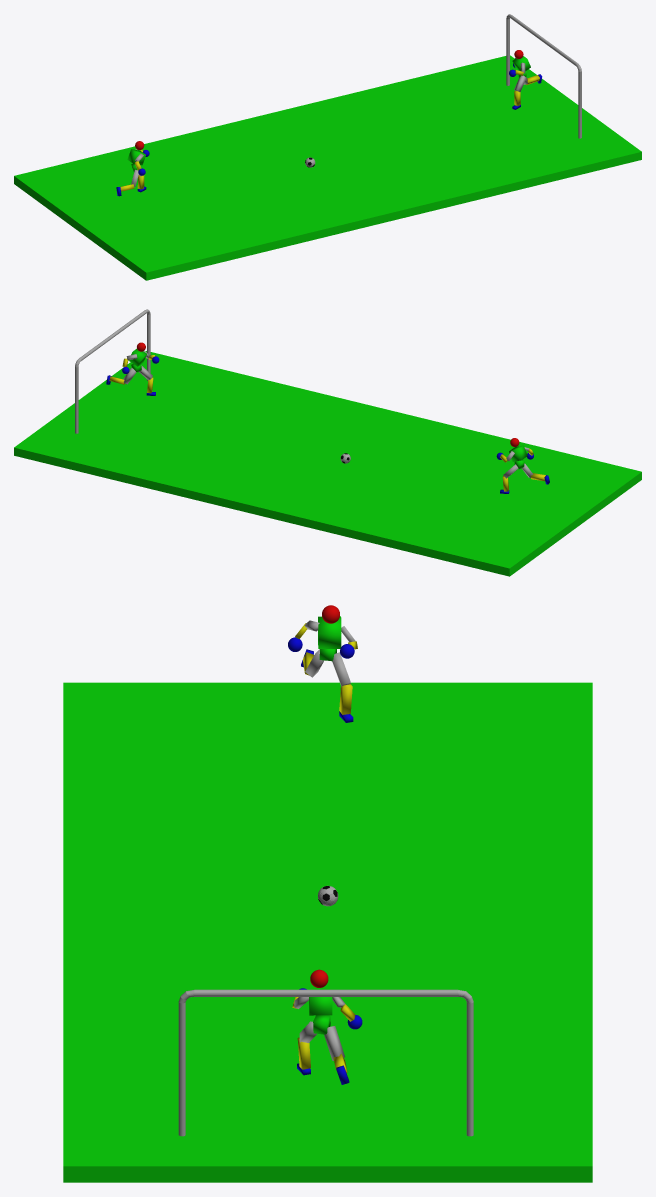
Rendered from bge_ball_1.1.2_000014.obj.
3 renders of one model, top to bottom at view 1: azimuth 30°, elevation 25°; view 2: azimuth 150°, elevation 25°; view 3: azimuth 270°, elevation 25°, orthographic. The views are drawn at different scales.
Parts seen in each view (by area): view 1: solo_Cubo.025, gol; view 2: solo_Cubo.025, gol; view 3: solo_Cubo.025, gol.
Part boxes in pixels (bbox=[...]): solo_Cubo.025: bbox=[14, 55, 641, 280]; gol: bbox=[506, 14, 581, 138]; solo_Cubo.025: bbox=[14, 351, 641, 576]; gol: bbox=[75, 309, 150, 433]; solo_Cubo.025: bbox=[63, 682, 592, 1182]; gol: bbox=[178, 989, 473, 1136].
Size of the model in its own units: 37.8 by 5.87 by 17.47.
